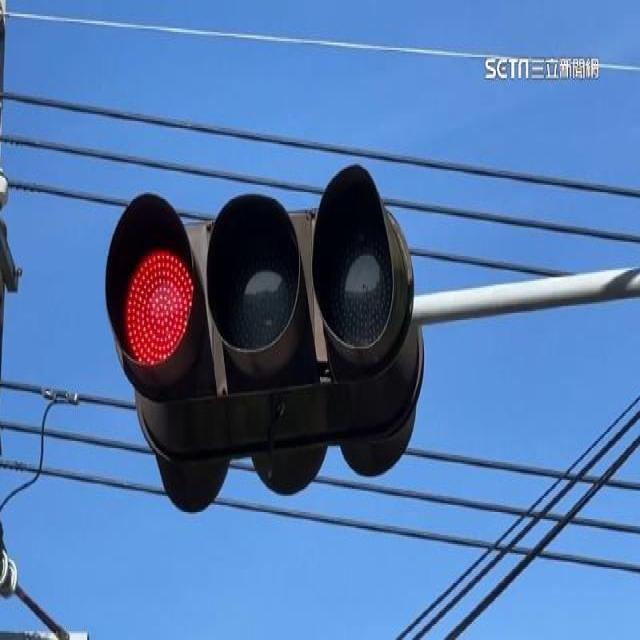red light: (105, 163, 424, 515)
